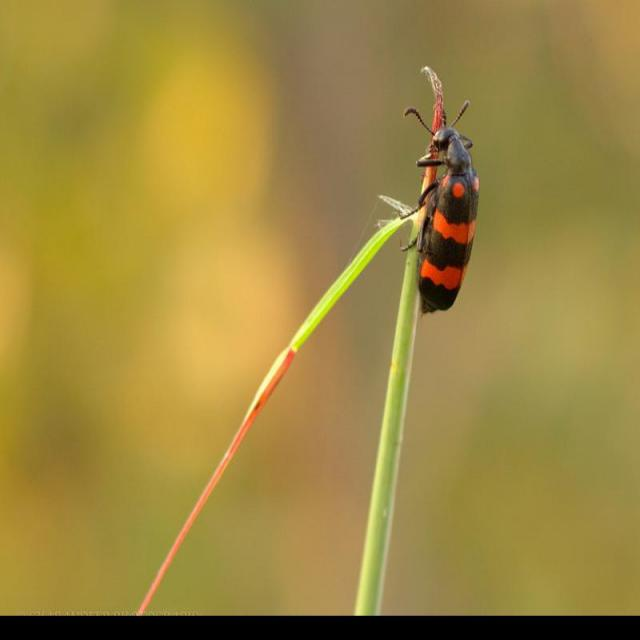BlisterBeetle-Adult-: (397, 100, 486, 317)
